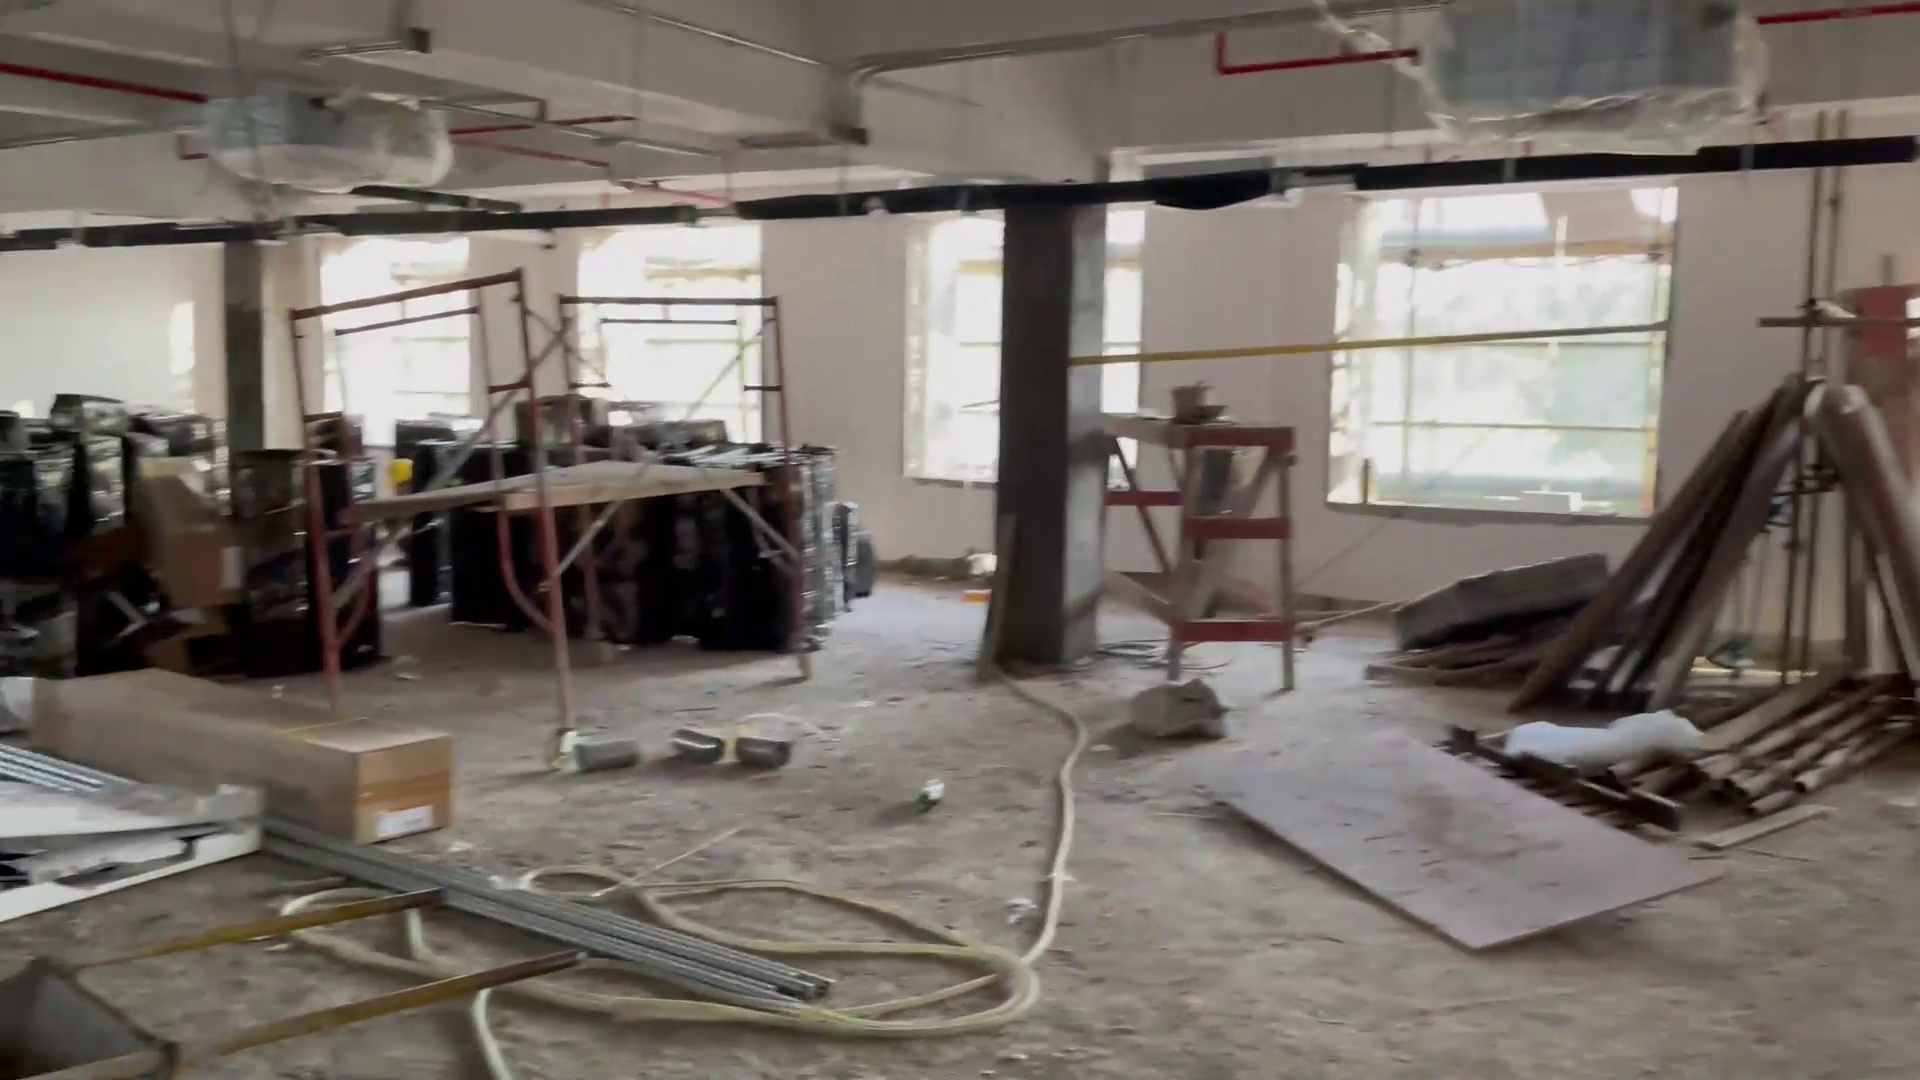board: (1607, 371, 1797, 690), (1826, 386, 1920, 667)
handcart: (8, 880, 582, 1060)
helmet: (385, 450, 415, 491)
